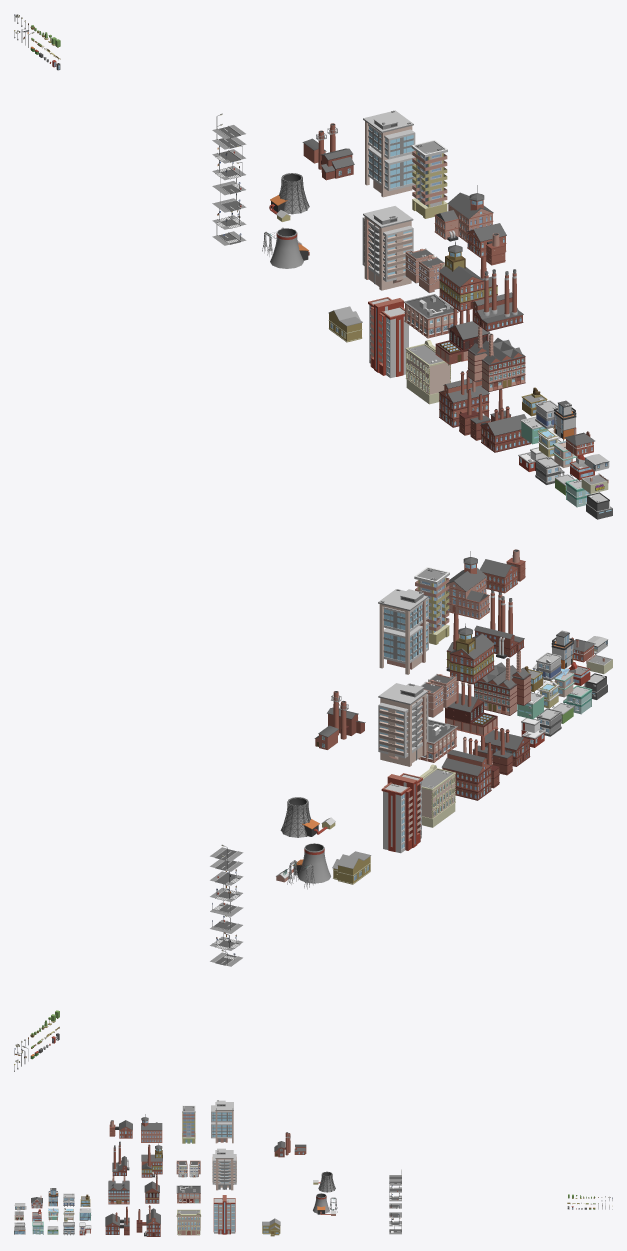
File: citystuff.fbx
3 views of the same model, one above another, from view 1: azimuth 30°, elevation 25°; view 2: azimuth 150°, elevation 25°; view 3: azimuth 270°, elevation 25° (orthographic). The views are drawn at different scales.
Visible parts, largest first — view 1: home_high.001, home_high.003, home_high.002, polySurface2429.001, home_living_1.002, polySurface2430.002, polySurface1260.001, polySurface1383.001, polySurface2308.002, polySurface2796.001, polySurface2430.003, polySurface1017.001 (+8 smaller); view 2: home_high.003, home_high.001, home_high.002, polySurface2429.001, polySurface1383.001, polySurface2430.002, polySurface2430.003, polySurface1260.001, home_living_1.002, polySurface2445.001, polySurface2308.002, polySurface2796.001 (+7 smaller); view 3: home_high.003, home_high.001, home_high.002, polySurface1260.001, polySurface2430.002, polySurface2429.001, home_living_1.002, polySurface1383.001, polySurface2430.003, polySurface2308.002, polySurface1017.001, polySurface2571.001 (+7 smaller).
Part boxes in pixels (x1,y1,x2,y2): home_high.001: (363, 110, 415, 197); home_high.003: (362, 206, 413, 290); home_high.002: (368, 297, 408, 378); polySurface2429.001: (467, 326, 525, 391); home_living_1.002: (411, 140, 447, 218); polySurface2430.002: (439, 241, 497, 311); polySurface1260.001: (405, 340, 450, 404); polySurface1383.001: (438, 370, 489, 435); polySurface2308.002: (470, 389, 530, 452); polySurface2796.001: (473, 269, 523, 331); polySurface2430.003: (434, 185, 493, 242); polySurface1017.001: (403, 294, 458, 338); home_high.003: (378, 683, 428, 766); home_high.001: (378, 589, 428, 674); home_high.002: (381, 773, 422, 853); polySurface2429.001: (474, 650, 531, 715); polySurface1383.001: (441, 736, 499, 800); polySurface2430.002: (446, 613, 494, 684); polySurface2430.003: (446, 551, 489, 619); polySurface1260.001: (419, 764, 455, 827); home_living_1.002: (414, 567, 449, 644); polySurface2445.001: (445, 680, 497, 736); polySurface2308.002: (472, 727, 530, 775); polySurface2796.001: (474, 590, 524, 658); home_high.003: (212, 1148, 236, 1190); home_high.001: (211, 1100, 233, 1143); home_high.002: (213, 1195, 235, 1234); polySurface1260.001: (176, 1209, 201, 1235); polySurface2430.002: (141, 1143, 162, 1177); polySurface2429.001: (108, 1176, 129, 1204); home_living_1.002: (182, 1105, 195, 1143); polySurface1383.001: (136, 1205, 160, 1236); polySurface2430.003: (141, 1114, 162, 1142); polySurface2308.002: (105, 1206, 129, 1235); polySurface1017.001: (176, 1184, 200, 1203); polySurface2571.001: (176, 1160, 200, 1177).
Bounding box in the file's own units: 878 × 4462 × 18747.
